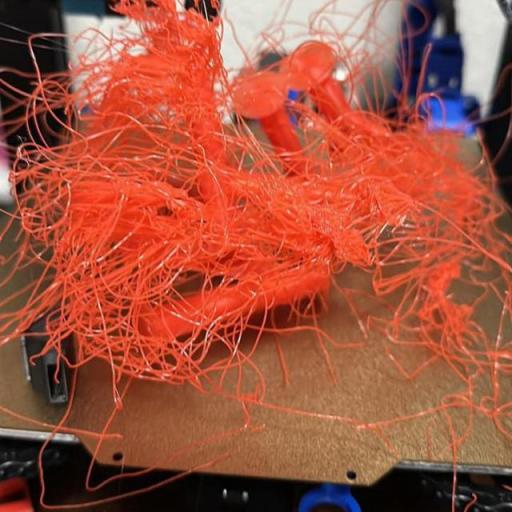spaghetti: (0, 79, 215, 357), (415, 234, 510, 444), (317, 134, 443, 253), (93, 314, 241, 394), (228, 152, 318, 268), (116, 0, 210, 76), (304, 2, 388, 62)
